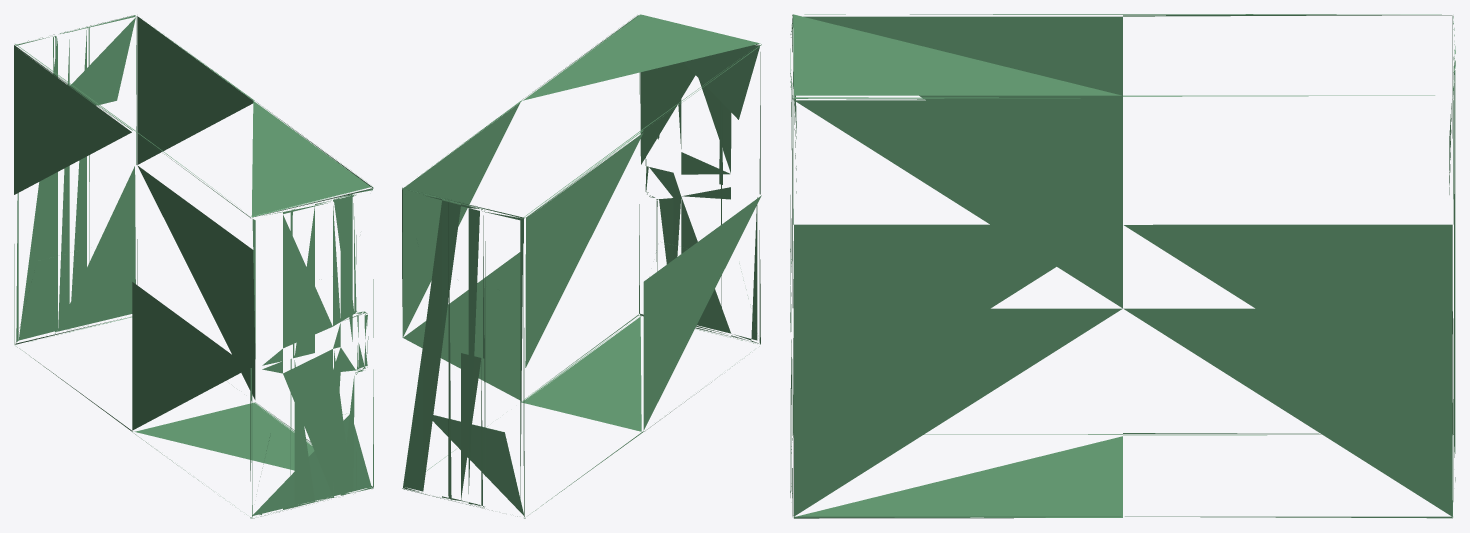
Rendered from food_processed_boxedCereal_l01.glb.
3 renders of one model, left to right at view 1: azimuth 30°, elevation 25°; view 2: azimuth 150°, elevation 25°; view 3: azimuth 270°, elevation 25°, orthographic. The views are drawn at different scales.
Visible parts, largest first — view 1: geometry_0; view 2: geometry_0; view 3: geometry_0.
Boxes of the visible parts, bbox=[...] form: geometry_0: bbox=[14, 15, 373, 518]; geometry_0: bbox=[402, 14, 761, 518]; geometry_0: bbox=[790, 14, 1455, 518].
Bounding box in the file's own units: 0.144 × 0.336 × 0.48.
